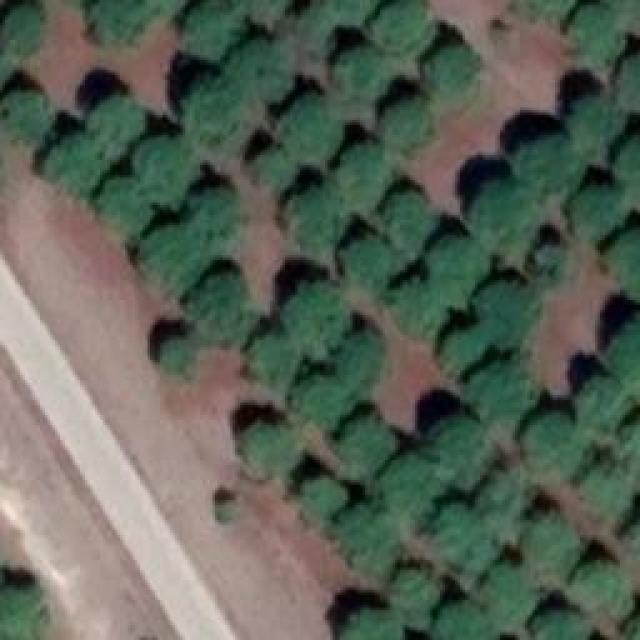Tree: (185, 77, 265, 155), (288, 278, 351, 361), (278, 95, 343, 168), (185, 272, 250, 340), (135, 228, 205, 288), (43, 138, 108, 201), (135, 140, 195, 208), (343, 507, 403, 575), (478, 177, 538, 245), (430, 500, 483, 575), (482, 277, 540, 345), (523, 415, 583, 480), (240, 420, 305, 478), (438, 233, 491, 303), (390, 457, 453, 515), (475, 358, 533, 421), (393, 277, 446, 345), (530, 133, 585, 198), (238, 335, 298, 393), (428, 45, 483, 108), (338, 150, 391, 213), (185, 0, 240, 60), (188, 187, 243, 245), (375, 0, 430, 58), (330, 50, 388, 105), (90, 100, 150, 153), (303, 370, 356, 430), (340, 420, 400, 473), (230, 45, 293, 95), (288, 188, 338, 251), (385, 193, 433, 258), (573, 95, 626, 153), (378, 100, 433, 155), (570, 185, 625, 240), (532, 518, 580, 581), (483, 470, 526, 540), (570, 5, 625, 58), (583, 377, 633, 435), (487, 565, 535, 625), (580, 563, 633, 616), (0, 90, 50, 143), (97, 185, 145, 240), (435, 327, 490, 375), (445, 420, 490, 478), (0, 590, 50, 640), (298, 475, 348, 525), (393, 567, 436, 625), (288, 10, 333, 65), (582, 473, 630, 523), (0, 8, 45, 61), (612, 313, 640, 398), (95, 0, 143, 48), (343, 240, 388, 290), (345, 335, 383, 385), (340, 610, 403, 640), (437, 607, 494, 640), (537, 607, 592, 640), (248, 153, 293, 193), (615, 227, 640, 295), (532, 240, 570, 283), (158, 335, 201, 370), (322, 0, 389, 22), (615, 55, 640, 110), (620, 430, 640, 488), (620, 138, 640, 191)
